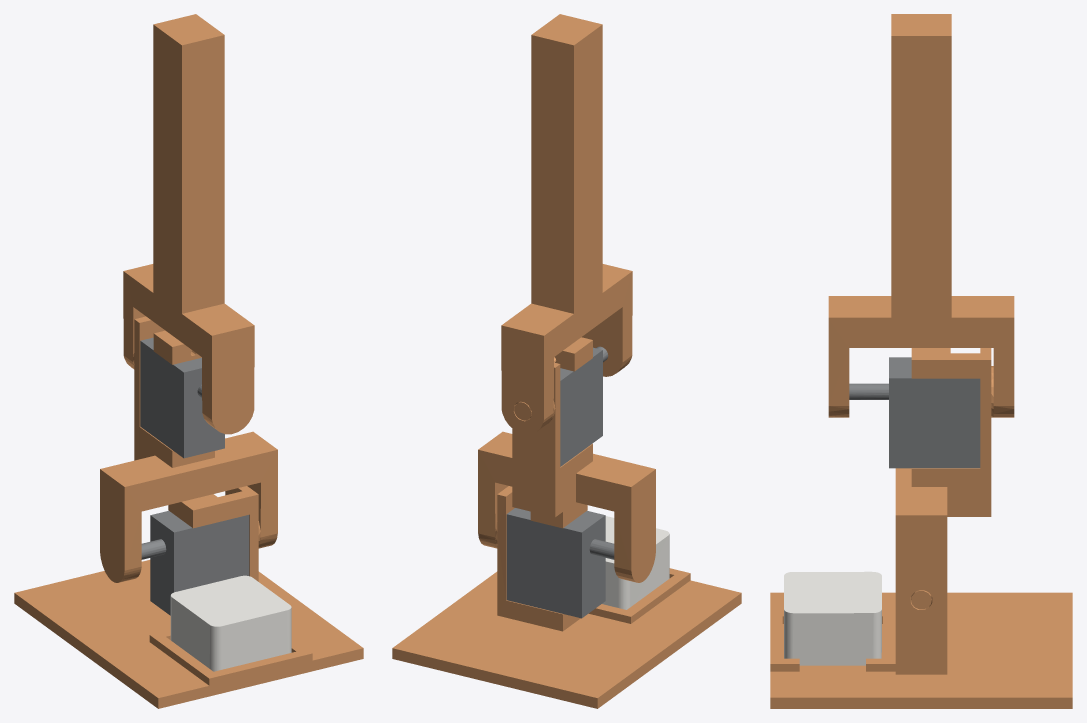
Rendered from pico-lite.glb.
The picture shows the model from 3 angles, left to right: view 1: azimuth 30°, elevation 25°; view 2: azimuth 150°, elevation 25°; view 3: azimuth 270°, elevation 25°; orthographic projection. The views are drawn at different scales.
Parts seen in each view (by area): view 1: arm2, foot, arm1, ATOM, servo1, servo2; view 2: arm2, foot, arm1, servo1, servo2, ATOM; view 3: arm2, foot, arm1, servo2, ATOM.
Part boxes in pixels (x1,y1,x2,y2): arm2: [123, 14, 254, 434]; foot: [14, 486, 363, 708]; arm1: [100, 316, 277, 582]; ATOM: [170, 575, 291, 671]; servo1: [141, 510, 249, 615]; servo2: [140, 337, 224, 458]; arm2: [501, 14, 632, 434]; foot: [392, 486, 741, 708]; arm1: [478, 337, 655, 582]; servo1: [506, 508, 614, 618]; servo2: [560, 346, 608, 466]; ATOM: [602, 516, 669, 609]; arm2: [828, 14, 1014, 417]; foot: [770, 590, 1072, 708]; arm1: [895, 348, 993, 623]; servo2: [849, 357, 980, 468]; ATOM: [784, 571, 881, 665].
Size of the model in its own units: 0.06 by 0.168 by 0.0729.
